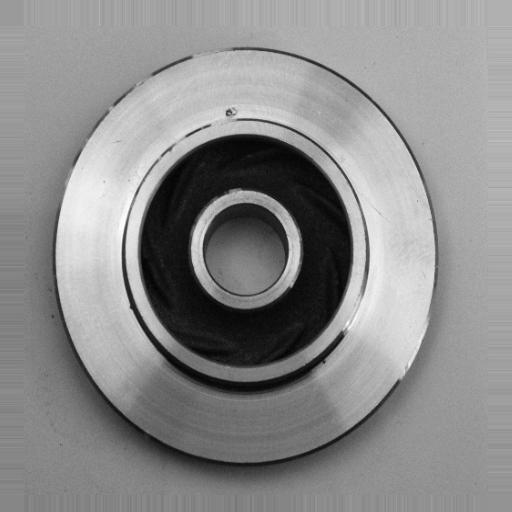crack: (215, 95, 248, 125)
scratch: (338, 269, 380, 343), (143, 130, 190, 175)
unpolished_casting: (50, 47, 440, 471)
